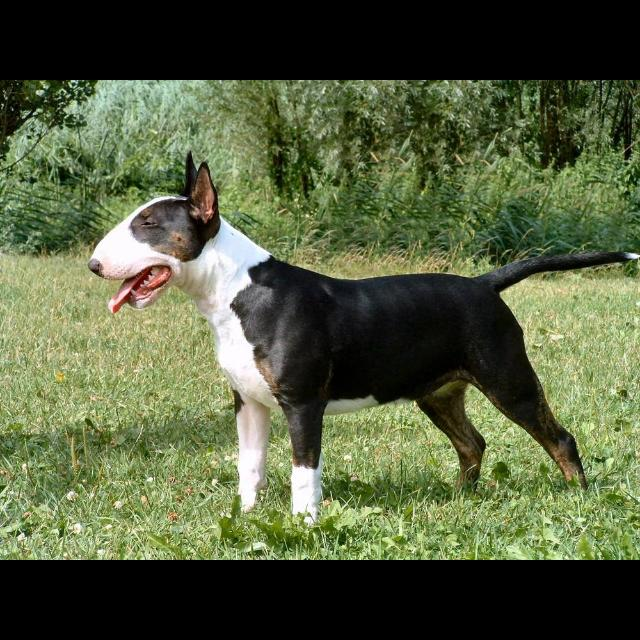bullterrier: (89, 151, 640, 529)
